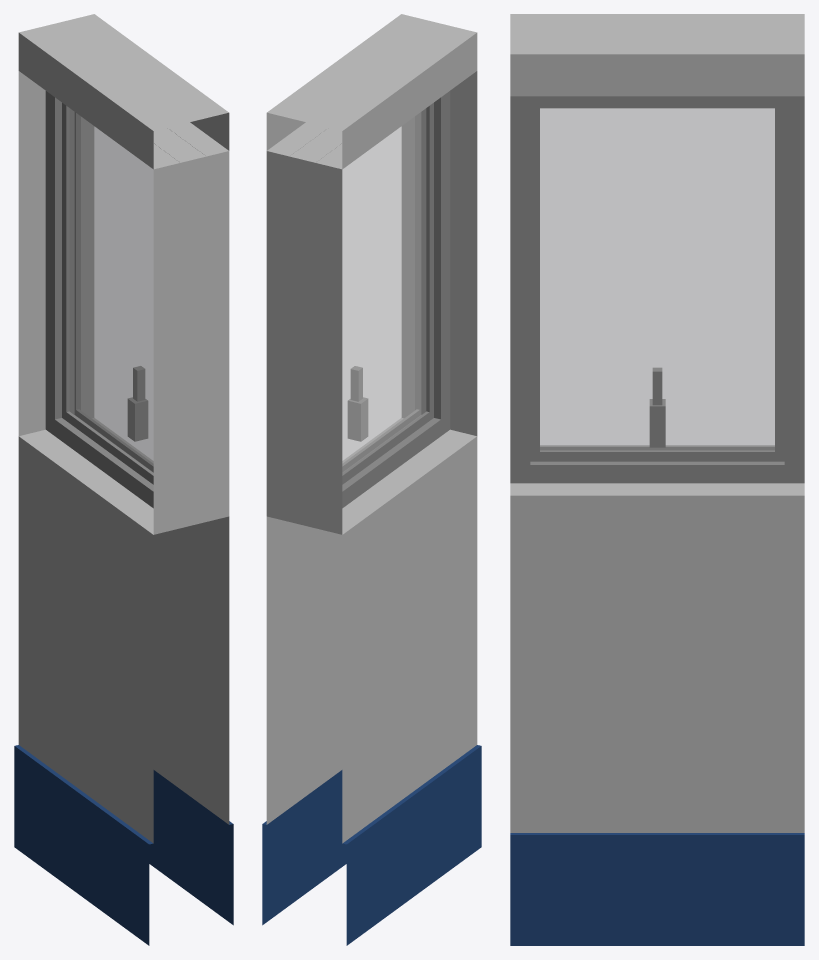
The model's file is Janela_Fechada.fbx.
3 views of the same model, side by side, from view 1: azimuth 30°, elevation 25°; view 2: azimuth 150°, elevation 25°; view 3: azimuth 270°, elevation 25° (orthographic). The views are drawn at different scales.
Visible parts, largest first — view 1: Cubo.023; view 2: Cubo.023; view 3: Cubo.023.
Boxes of the visible parts, x1,y1,x2,y2 form: Cubo.023: [14, 14, 233, 945]; Cubo.023: [262, 14, 481, 945]; Cubo.023: [510, 14, 804, 945].
Size of the model in its own units: 54.17 by 500 by 150.
